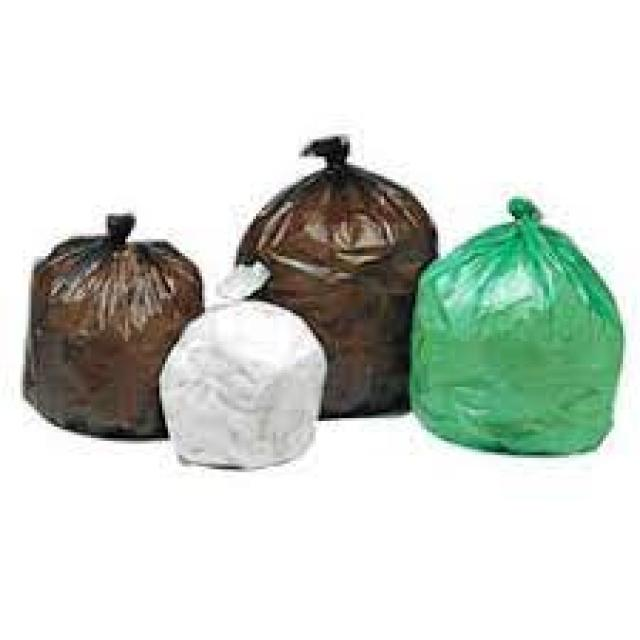sampah-detection: (233, 128, 438, 421), (410, 196, 628, 458), (26, 199, 208, 450), (154, 253, 324, 475)
